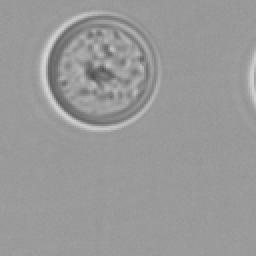picoshell: (42, 12, 158, 130)
